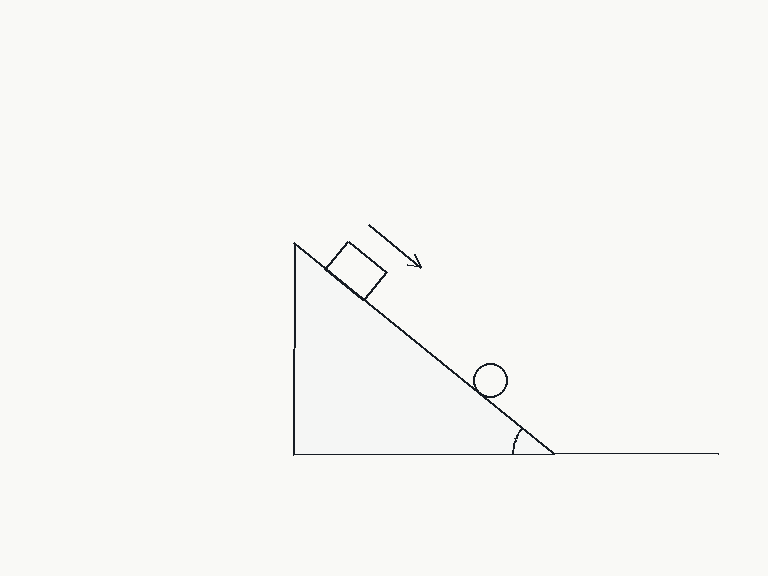ball: (471, 361, 509, 399)
block: (324, 239, 388, 302)
ramp: (291, 241, 555, 455)
